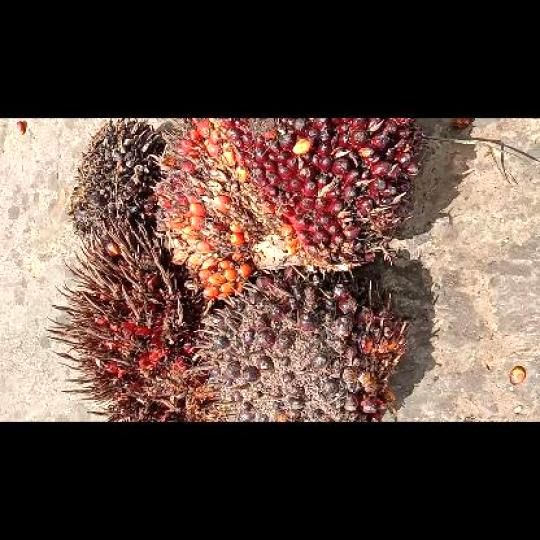kurang masak: (191, 265, 409, 420)
masak: (156, 118, 418, 300)
terlalu masak: (44, 216, 229, 420)
